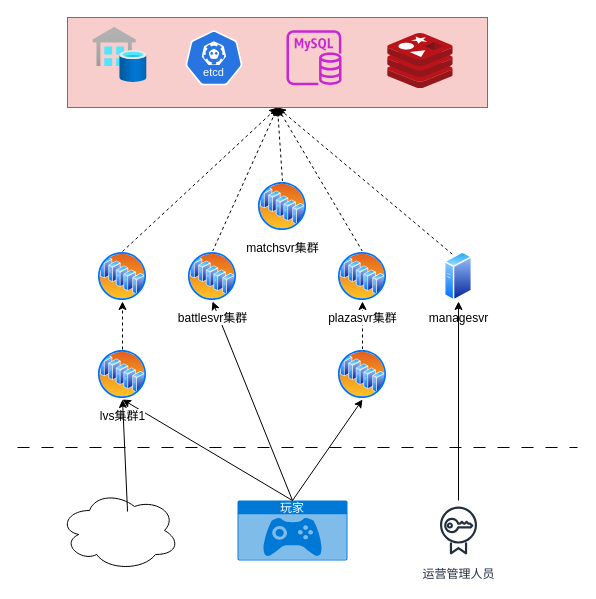
This 596x599 diagram has some shape labels left out. Each missing label, with the box of its shape:
lvs集群2: (337, 349, 387, 399)
sdksvr集群: (97, 251, 147, 301)
外部厂商: (58, 490, 180, 570)
数据仓库: (92, 27, 147, 82)
